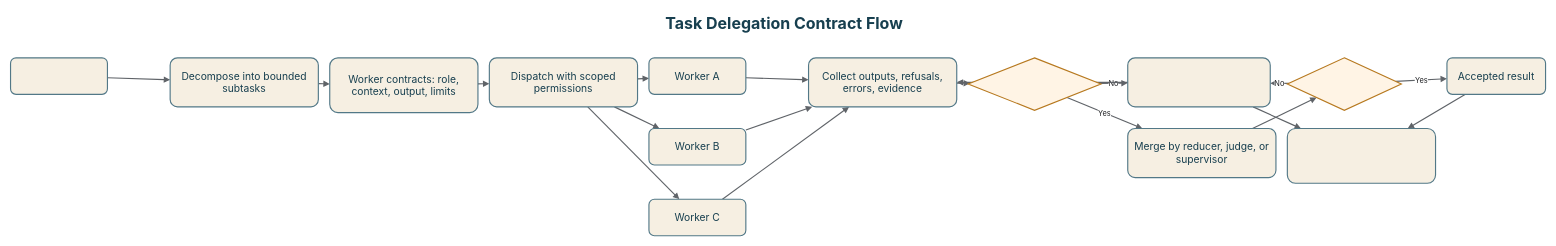
This 1556x246 diagram has some shape labels left out. Here are the shapes that lost their labels. From the top down, the centre of each, then its label:
At (59,76): "Shared goal".
At (1034,84): "Meets acceptance criteria?".
At (1199,82): "Repair, reassign, or escalate".
At (1344,84): "Final owner accepts?".
At (1361,156): "Trace assignments, worker outputs, merge decision".
